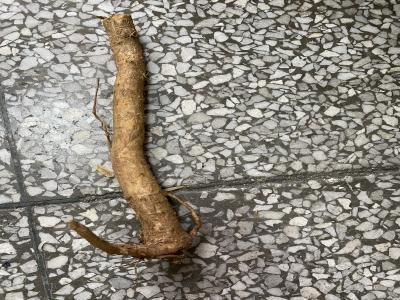Root: (69, 14, 201, 259), (87, 14, 202, 263)
